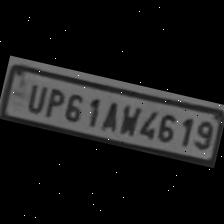1: (79, 92, 104, 129), (172, 114, 196, 148)
4: (136, 106, 162, 141)
6: (58, 89, 88, 125), (153, 109, 180, 144)
9: (188, 115, 216, 153)
A: (96, 96, 123, 134)
P: (41, 85, 66, 120)
U: (22, 80, 49, 115)
W: (114, 99, 142, 138)
